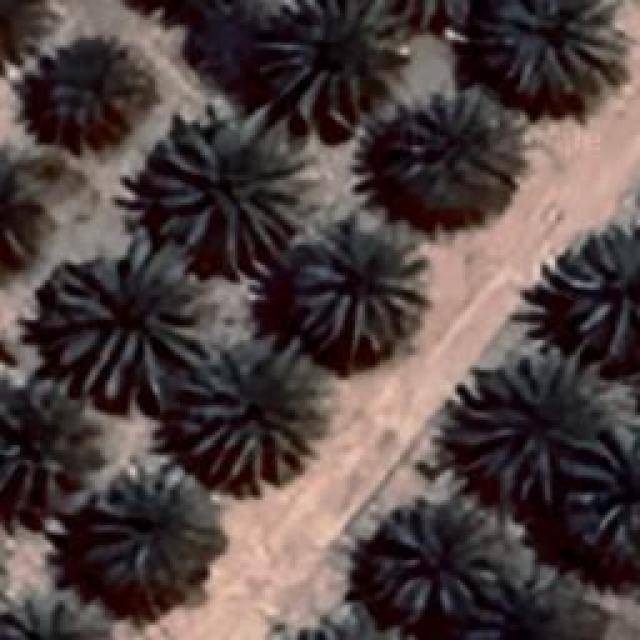PalmTree: (44, 240, 208, 405), (142, 100, 302, 265), (442, 350, 596, 502), (180, 340, 322, 490), (288, 212, 430, 360), (255, 2, 408, 130), (370, 495, 518, 615), (82, 464, 210, 592), (482, 0, 620, 95), (552, 220, 638, 360), (405, 85, 513, 193), (2, 396, 76, 514), (42, 51, 146, 134), (478, 570, 595, 640), (0, 142, 51, 287), (595, 432, 640, 580), (0, 584, 118, 638), (0, 0, 56, 70), (270, 605, 381, 640), (397, 0, 491, 34), (0, 518, 14, 620)
